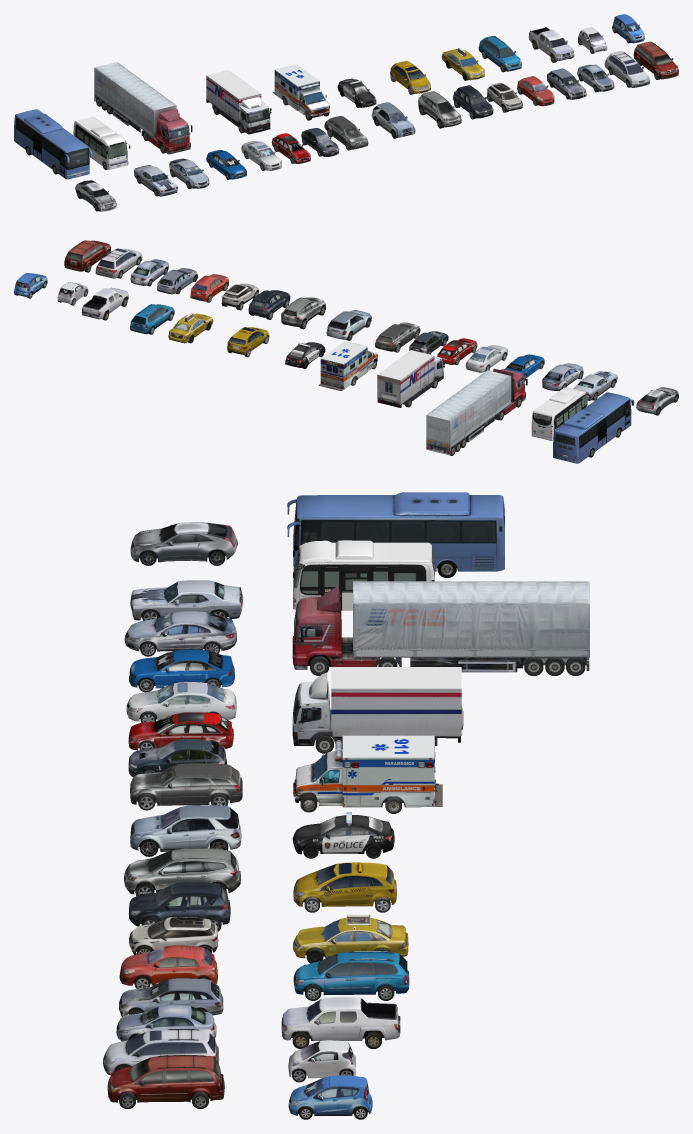
File: Traffic Cars grouped.fbx
3 views of the same model, one above another, from view 1: azimuth 30°, elevation 25°; view 2: azimuth 150°, elevation 25°; view 3: azimuth 270°, elevation 25° (orthographic). The views are drawn at different scales.
Parts seen in each view (by area): view 1: objMan_TGA, objMetropo, objBodyMer, objUSA_amb, objPoncho, objDodgeGr, objHondaOd, objChevyTr, objBody, objHondaRi, objHyundai, objDodgeMa (+17 smaller); view 2: objMan_TGA, objMetropo, objBodyMer, objUSA_amb, objPoncho, objDodgeGr, objHondaRi, objHondaOd, objBody, objChevyTr, objHyundai, objDodgeMa (+17 smaller); view 3: objMan_TGA, objMetropo, objBodyMer, objUSA_amb, objPoncho, objDodgeGr, objHondaRi, objHyundai, objBody, objDodgeMa, objChevyTr, objMercTax (+17 smaller).
Boxes of the visible parts, x1,y1,x2,y2 form: objMan_TGA: [94, 62, 192, 154]; objMetropo: [14, 109, 92, 179]; objBodyMer: [206, 70, 271, 134]; objUSA_amb: [272, 64, 329, 117]; objPoncho: [73, 116, 130, 169]; objDodgeGr: [633, 41, 678, 79]; objHondaOd: [604, 51, 649, 87]; objChevyTr: [418, 91, 461, 127]; objBody: [371, 102, 415, 137]; objHondaRi: [528, 27, 574, 60]; objHyundai: [478, 36, 521, 71]; objDodgeMa: [324, 116, 368, 149]; objMan_TGA: [426, 368, 527, 455]; objMetropo: [553, 392, 634, 463]; objBodyMer: [377, 350, 444, 407]; objUSA_amb: [318, 341, 377, 390]; objPoncho: [531, 387, 590, 440]; objDodgeGr: [64, 240, 110, 271]; objHondaRi: [81, 287, 128, 319]; objHondaOd: [95, 248, 142, 278]; objBody: [326, 310, 371, 339]; objChevyTr: [281, 297, 325, 326]; objHyundai: [130, 304, 174, 334]; objDodgeMa: [375, 322, 420, 351]; objMan_TGA: [292, 581, 589, 672]; objMetropo: [287, 492, 504, 571]; objBodyMer: [292, 667, 463, 745]; objUSA_amb: [293, 735, 442, 807]; objPoncho: [293, 540, 434, 610]; objDodgeGr: [107, 1055, 224, 1102]; objHondaRi: [281, 996, 400, 1040]; objHyundai: [293, 951, 409, 995]; objBody: [130, 805, 241, 851]; objDodgeMa: [130, 763, 242, 805]; objChevyTr: [124, 848, 240, 894]; objMercTax: [293, 862, 396, 906].
Bounding box in the file's own units: 2365 × 141 × 848.
